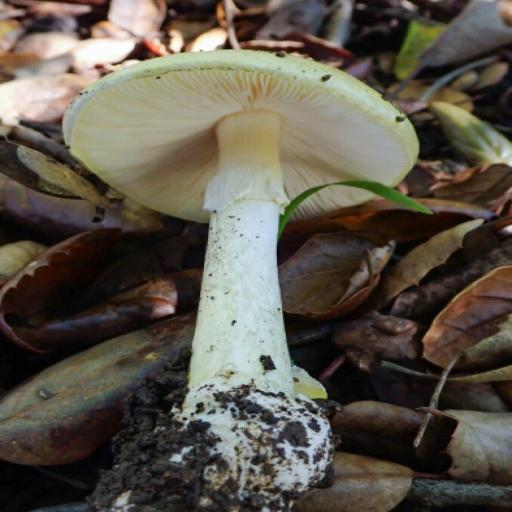Death Cap: (0, 6, 422, 512)
